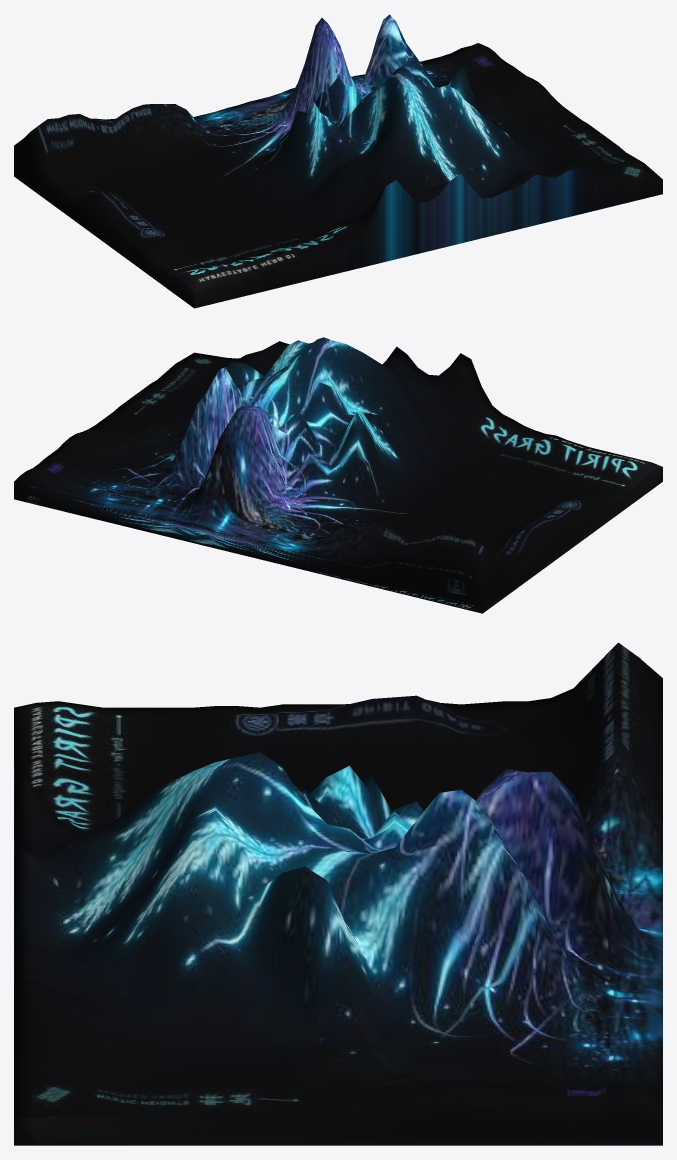
Rendered from HERB_01_Spirit_Grass.glb.
3 renders of one model, top to bottom at view 1: azimuth 30°, elevation 25°; view 2: azimuth 150°, elevation 25°; view 3: azimuth 270°, elevation 25°, orthographic. The views are drawn at different scales.
Visible parts, largest first — view 1: HERB_01_Spirit_Grass; view 2: HERB_01_Spirit_Grass; view 3: HERB_01_Spirit_Grass.
Part boxes in pixels (box(x1,y1,x2,y2)): HERB_01_Spirit_Grass: box(14, 14, 662, 308); HERB_01_Spirit_Grass: box(14, 337, 662, 613); HERB_01_Spirit_Grass: box(14, 642, 662, 1145).
Bounding box in the file's own units: 2 × 0.51 × 1.33.
Materials: 1 (1 with a texture image).
